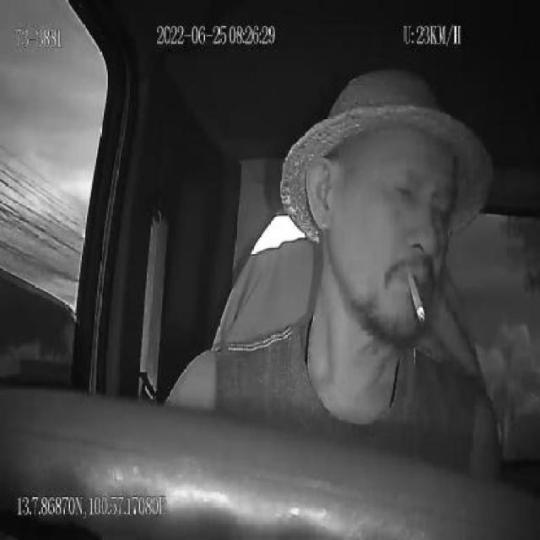smoking: (405, 264, 424, 324)
